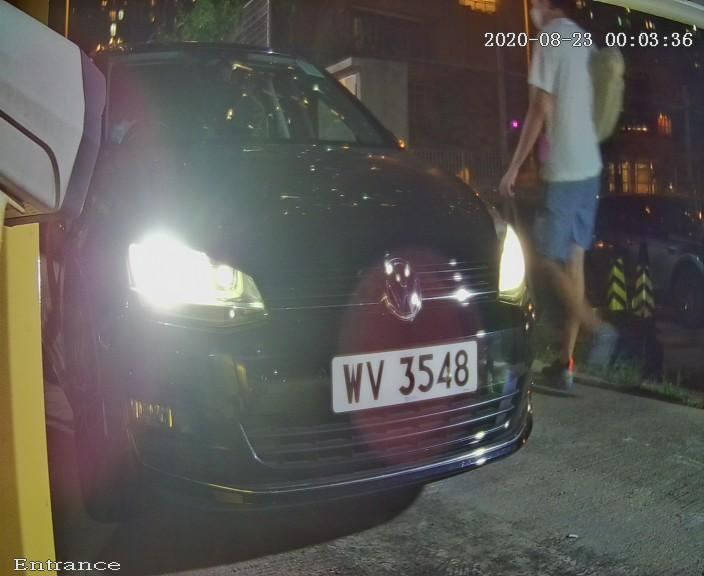Car: (1, 6, 579, 548)
License Plate: (298, 327, 496, 422)
